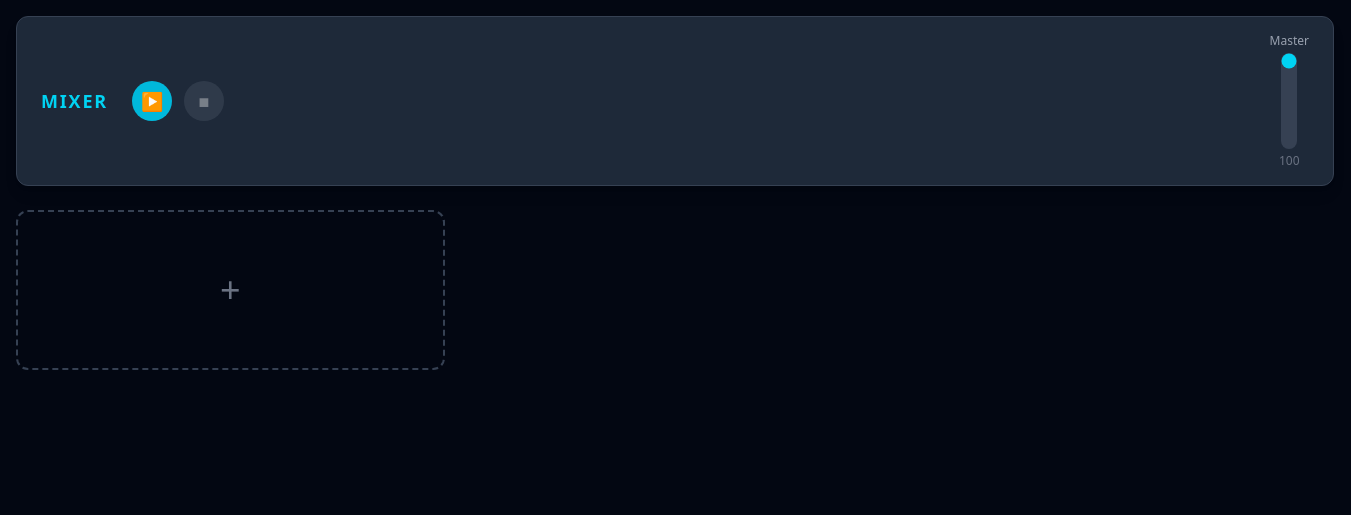
MixerBoard › adds a track when the "+" button is clicked
The width and height of the screenshot is (1351, 515).
What coordinates should you click on to do the following:
click the button titled "Add track"
I would click on:
 (230, 290)
Its box is left=16, top=210, right=445, bottom=370.
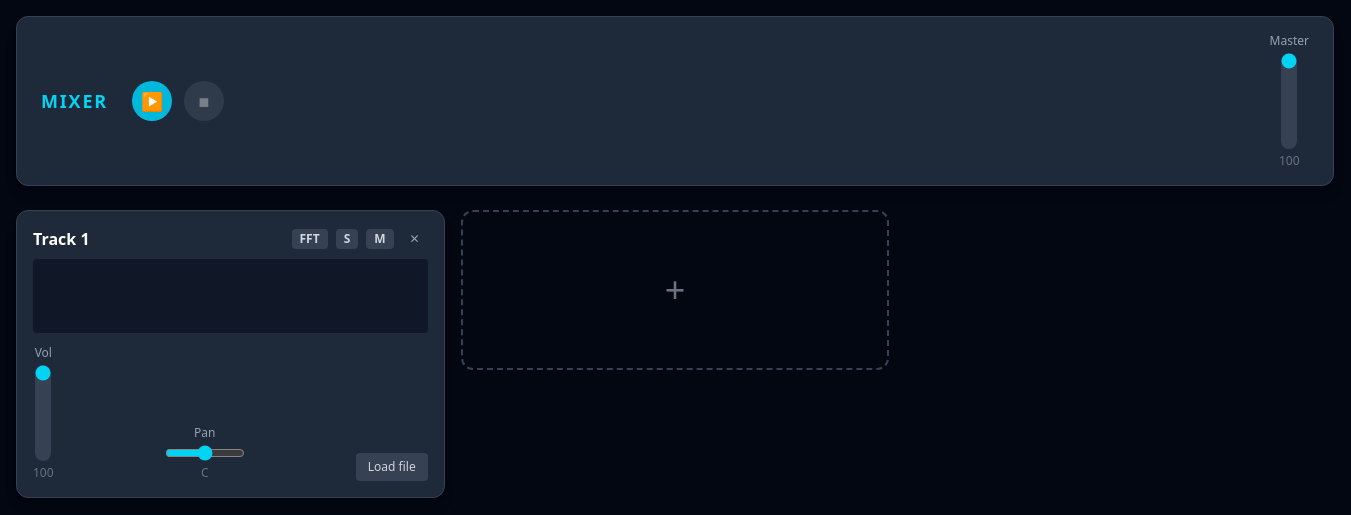
Now the button "Load file" is shown, box left=356, top=453, right=428, bottom=481
